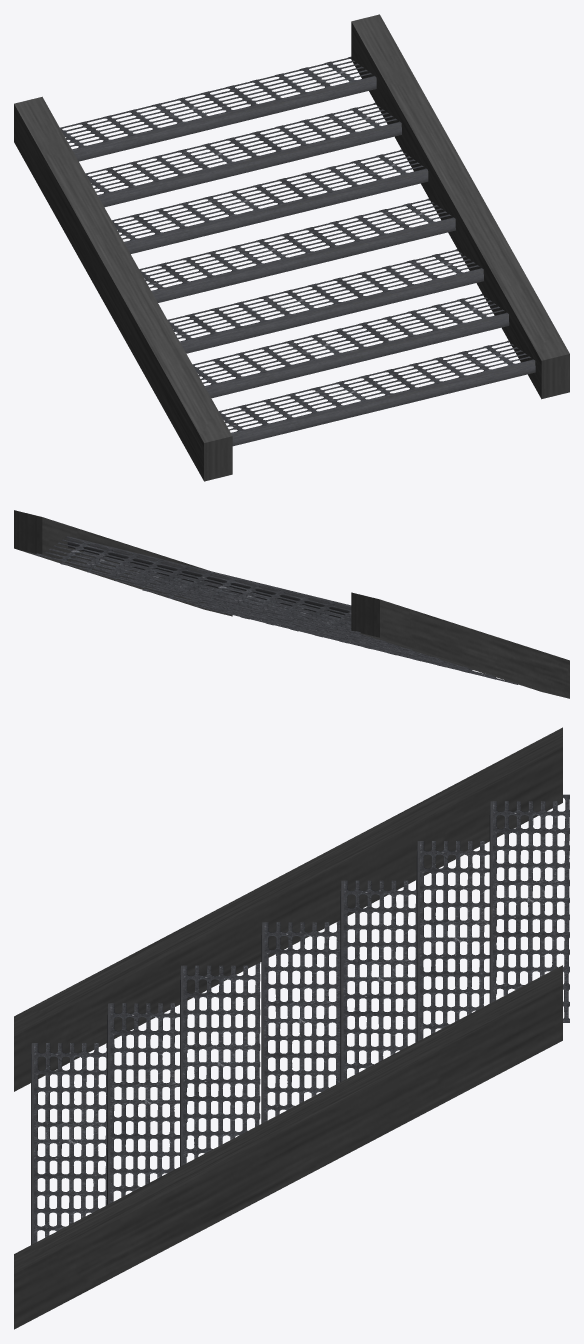
File: Stairs.fbx
3 renders of one model, top to bottom at view 1: azimuth 30°, elevation 25°; view 2: azimuth 150°, elevation 25°; view 3: azimuth 270°, elevation 25°, orthographic. The views are drawn at different scales.
Parts seen in each view (by area): view 1: stairs; view 2: stairs; view 3: stairs.
Part boxes in pixels (left/top/right/bottom): stairs: left=14, top=14, right=569, bottom=481; stairs: left=14, top=510, right=569, bottom=698; stairs: left=14, top=727, right=569, bottom=1329.
Bounding box in the file's own units: 0.0226 × 0.0141 × 0.0206.
Materials: 1 (1 with a texture image).
